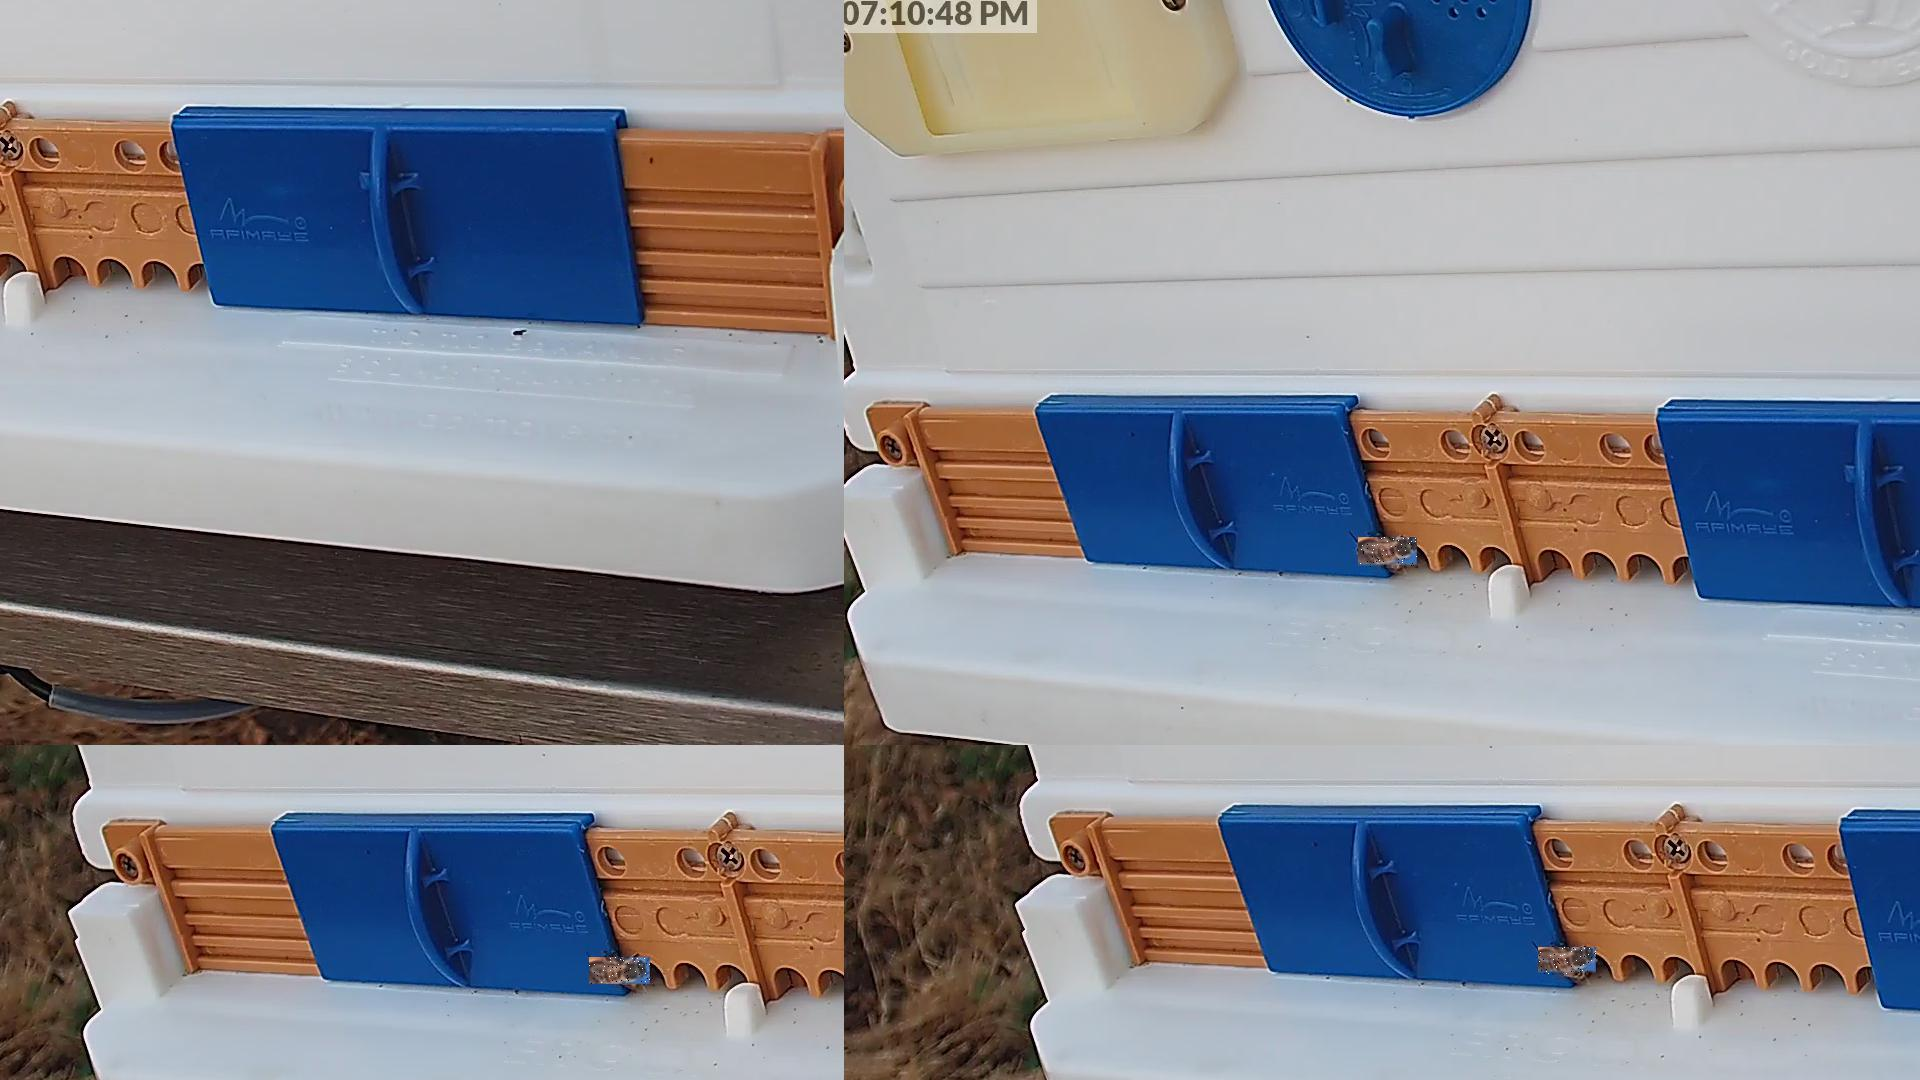bee: (1358, 538, 1419, 568), (589, 957, 651, 985), (1539, 948, 1597, 976)
